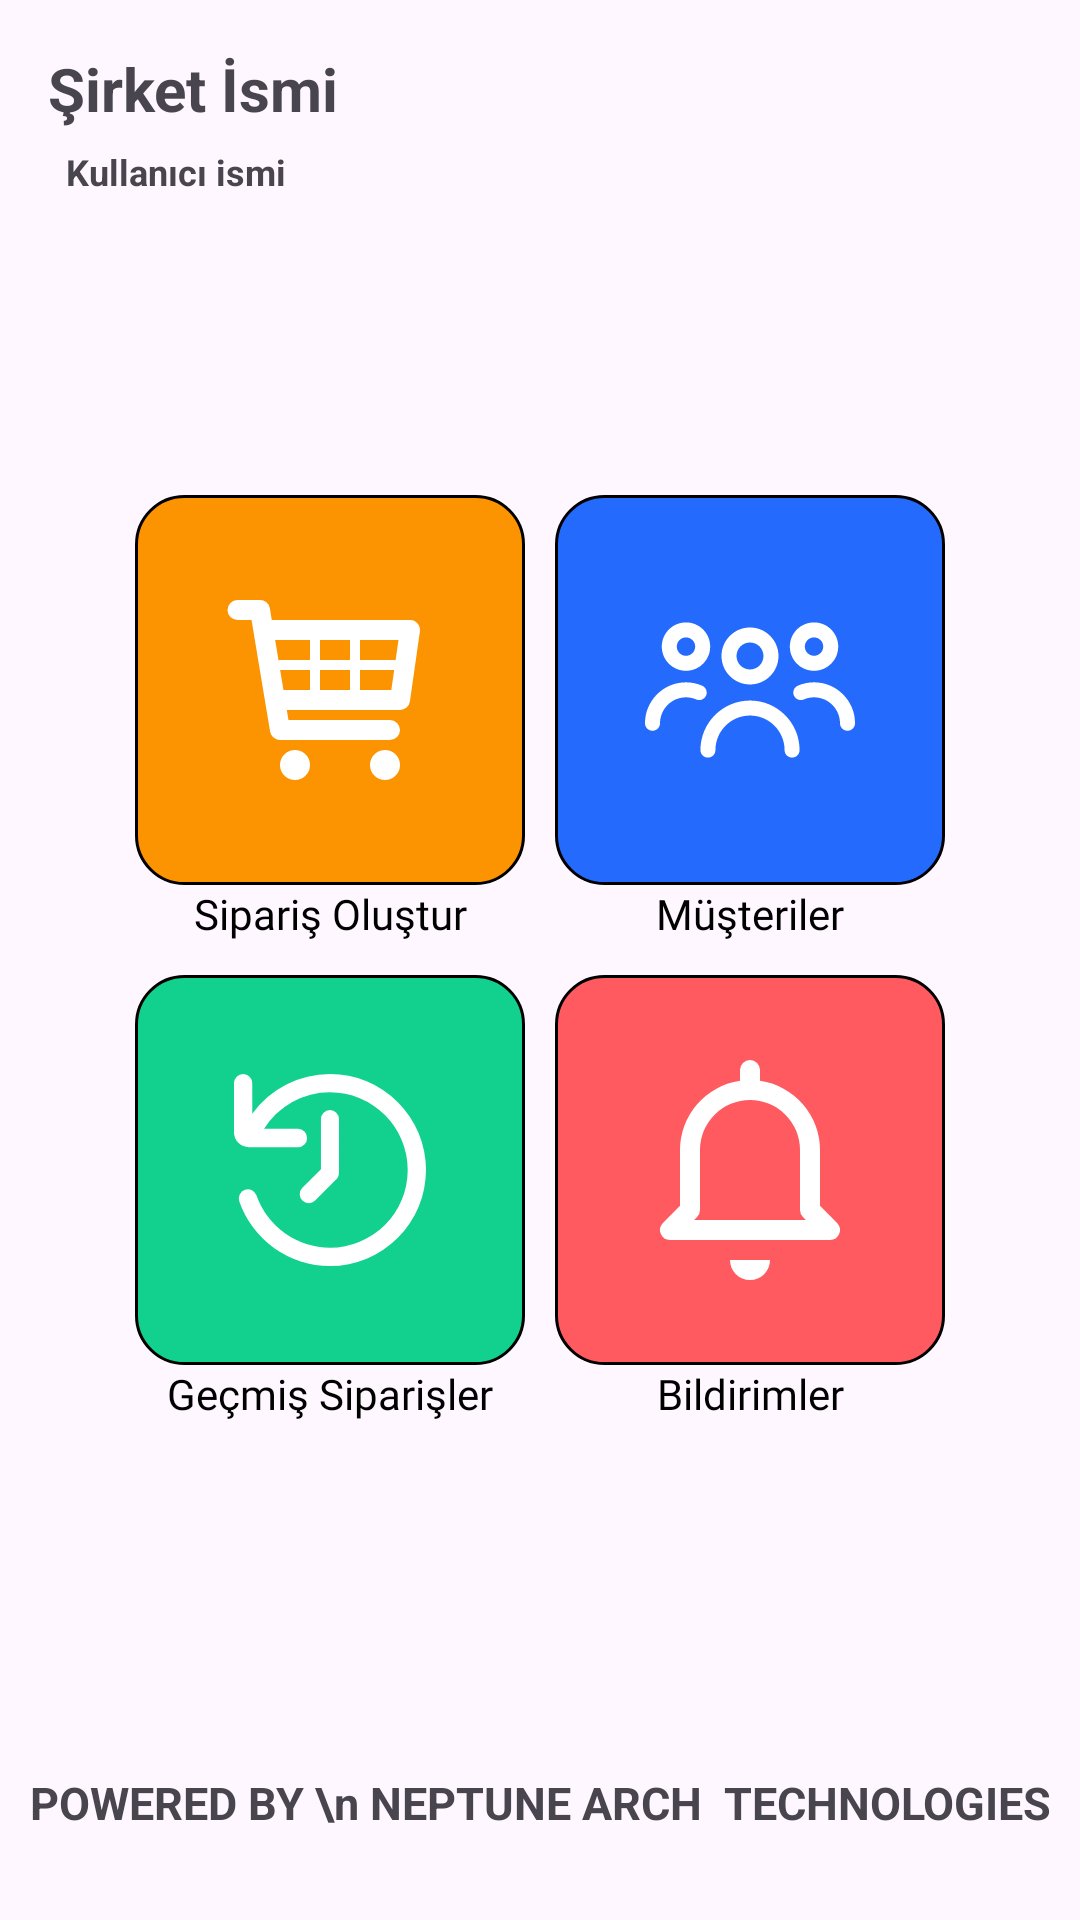

Icons on this 1080×1920 Android screen, each with its box as (x1, y1, x2, y2):
notification: (660, 1060, 840, 1280)
past order: (234, 1074, 426, 1266)
shopping cart: (227, 600, 420, 780)
users: (645, 622, 855, 758)
